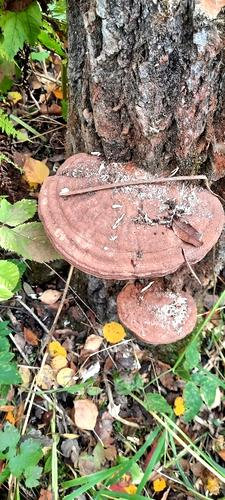Ganoderma - Fruit Body: (42, 154, 225, 277), (119, 283, 199, 345)
